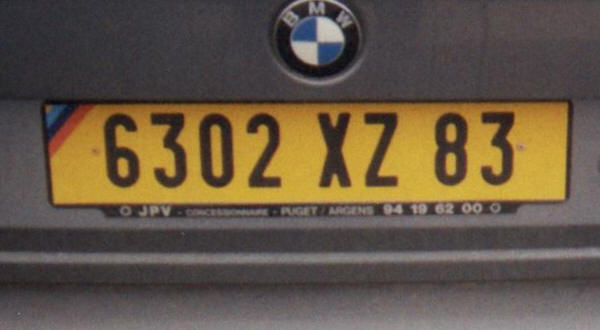license_plate: (41, 100, 573, 206)
